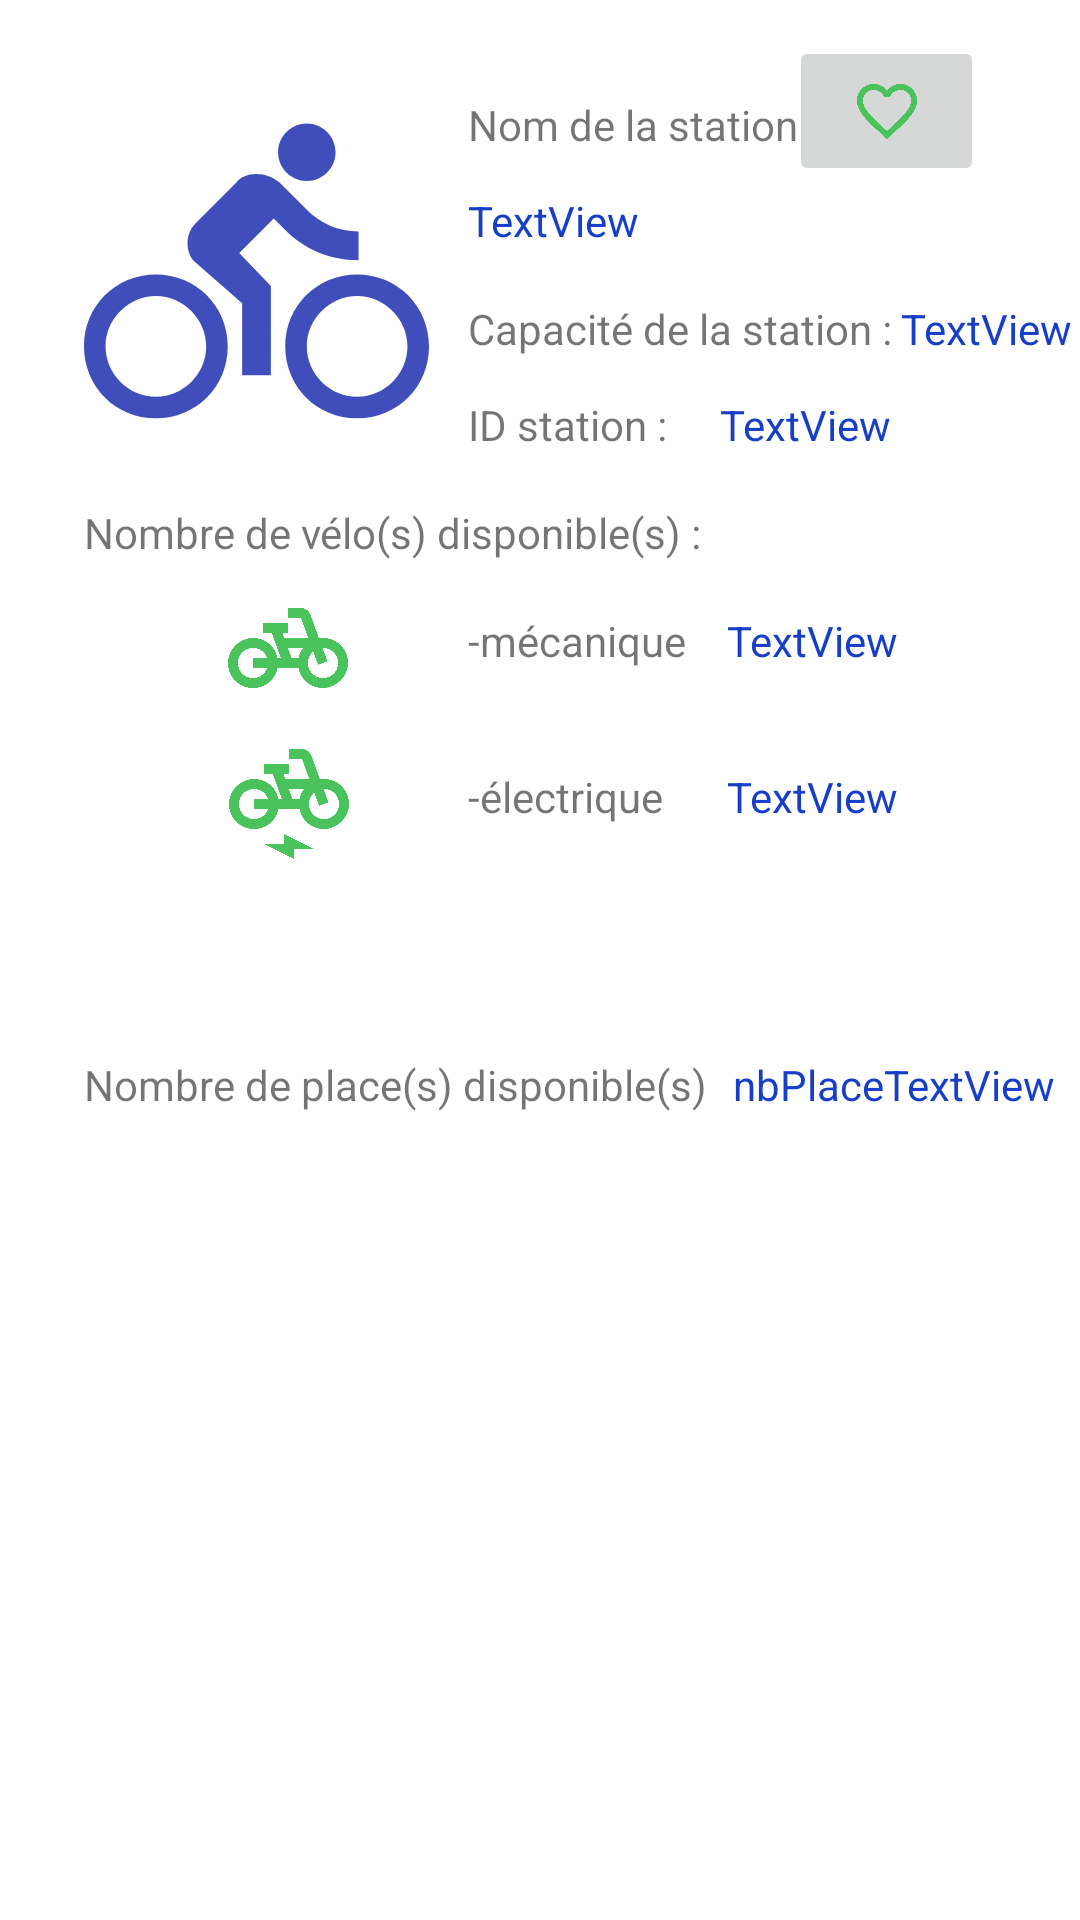

Point at icon controls on the screen. Image size 1080 x 1920, points as [x,y].
directions bike: [256,271]
electric bike: [289,804]
favorite border: [886,111]
pedal bike: [288,648]
